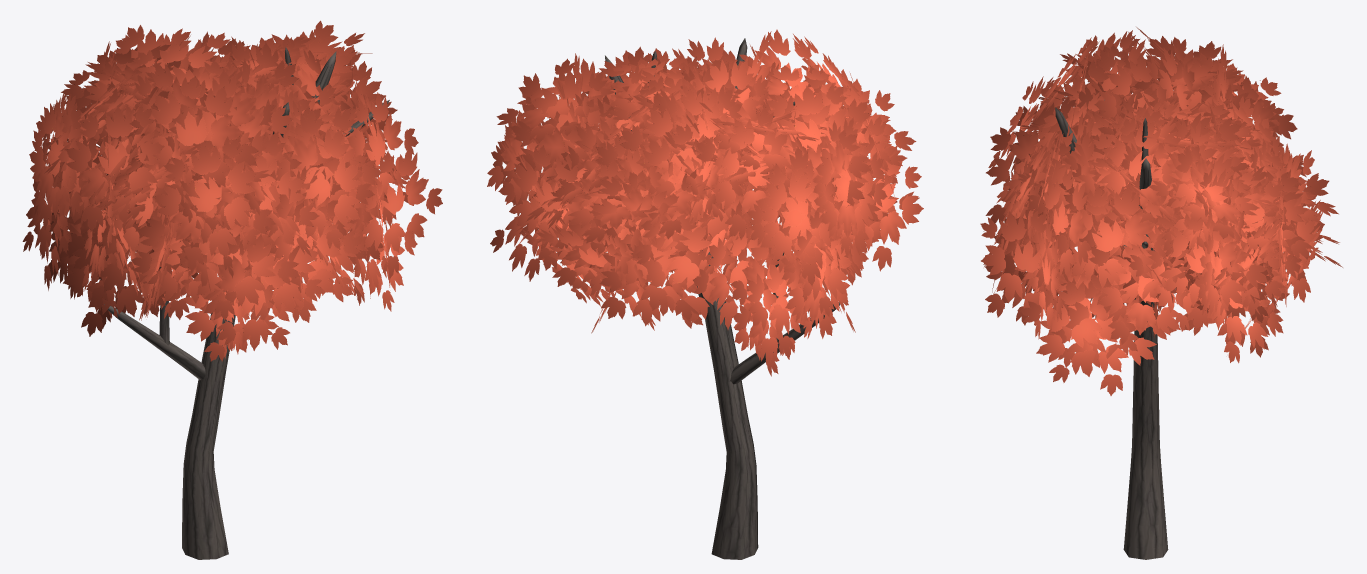
Rendered from maple-4.glb.
3 views of the same model, side by side, from view 1: azimuth 30°, elevation 25°; view 2: azimuth 150°, elevation 25°; view 3: azimuth 270°, elevation 25° (orthographic). The views are drawn at different scales.
Parts seen in each view (by area): view 1: MapleTree_4; view 2: MapleTree_4; view 3: MapleTree_4.
Part boxes in pixels (<box>): MapleTree_4: <box>22,20,442,559</box>; MapleTree_4: <box>487,29,923,559</box>; MapleTree_4: <box>980,27,1342,559</box>.
Size of the model in its own units: 2.77 by 3.59 by 2.43.
2 materials, 2 textured.
